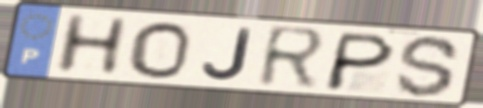H: (50, 12, 133, 76)
J: (199, 26, 255, 83)
O: (127, 19, 194, 80)
P: (320, 30, 399, 93)
R: (254, 23, 331, 92)
S: (393, 33, 464, 99)
